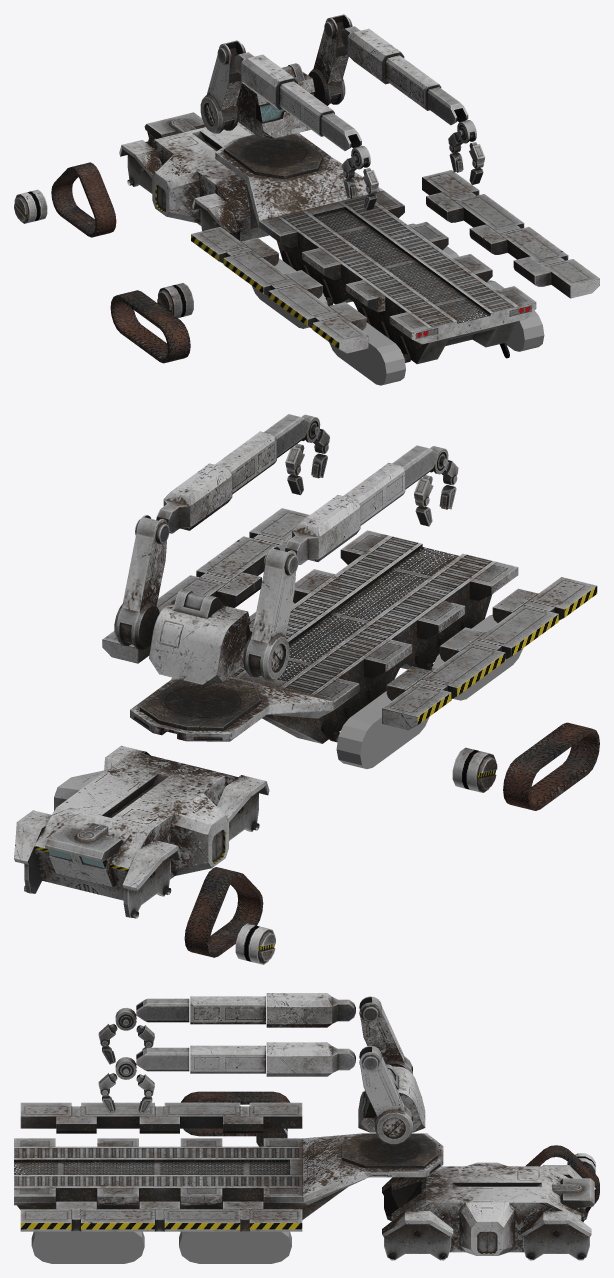
File: Oppie_EXP 2.FBX
3 renders of one model, top to bottom at view 1: azimuth 30°, elevation 25°; view 2: azimuth 150°, elevation 25°; view 3: azimuth 270°, elevation 25°, orthographic. The views are drawn at different scales.
Visible parts, largest first — view 1: Cube.025, Cube.020, Cube.039, Cube.026, Cylinder.034, Cylinder.015, Cylinder.044, Cube.028, Cylinder.054, Box002, Cube.029, Cube.041 (+10 smaller); view 2: Cube.025, Cube.020, Cube.026, Cube.028, Cube.039, Cylinder.034, Cylinder.044, Cylinder.054, Cylinder.015, Box001, Cube.041, Cube.029 (+10 smaller); view 3: Cube.025, Cube.020, Cube.026, Cube.039, Box003, Box004, Cylinder.054, Cube.029, Cube.041, Cube.047, Cube.048, Cube.038 (+11 smaller).
Boxes of the visible parts, bbox=[...] form: Cube.025: bbox=[215, 133, 536, 364]; Cube.020: bbox=[144, 112, 268, 241]; Cube.039: bbox=[422, 170, 599, 298]; Cube.026: bbox=[191, 227, 368, 353]; Cylinder.034: bbox=[110, 290, 190, 363]; Cylinder.015: bbox=[51, 162, 116, 237]; Cylinder.044: bbox=[200, 40, 245, 133]; Cube.028: bbox=[236, 63, 315, 138]; Cylinder.054: bbox=[308, 14, 352, 105]; Box002: bbox=[329, 322, 405, 385]; Cube.029: bbox=[234, 52, 297, 110]; Cube.041: bbox=[341, 26, 404, 84]; Cube.025: bbox=[130, 530, 518, 743]; Cube.020: bbox=[34, 751, 237, 900]; Cube.026: bbox=[382, 577, 597, 730]; Cube.028: bbox=[149, 589, 251, 684]; Cube.039: bbox=[102, 508, 309, 663]; Cylinder.034: bbox=[503, 722, 599, 810]; Cylinder.044: bbox=[243, 546, 298, 680]; Cylinder.054: bbox=[114, 515, 169, 649]; Cylinder.015: bbox=[184, 867, 263, 957]; Box001: bbox=[336, 691, 429, 768]; Cube.041: bbox=[156, 463, 232, 533]; Cube.029: bbox=[285, 495, 360, 564]; Cube.025: bbox=[14, 1133, 443, 1219]; Cube.020: bbox=[391, 1162, 594, 1255]; Cube.026: bbox=[20, 1102, 302, 1133]; Cube.039: bbox=[20, 1201, 302, 1231]; Box003: bbox=[31, 1231, 144, 1263]; Box004: bbox=[179, 1231, 291, 1263]; Cylinder.054: bbox=[359, 1046, 412, 1144]; Cube.029: bbox=[266, 993, 355, 1027]; Cube.041: bbox=[266, 1042, 355, 1076]; Cube.047: bbox=[382, 1211, 453, 1260]; Cube.048: bbox=[520, 1211, 591, 1260]; Cube.038: bbox=[190, 996, 265, 1024].
Bounding box in the file's own units: 3816 × 5882 × 2560.
2 materials, 1 textured.
